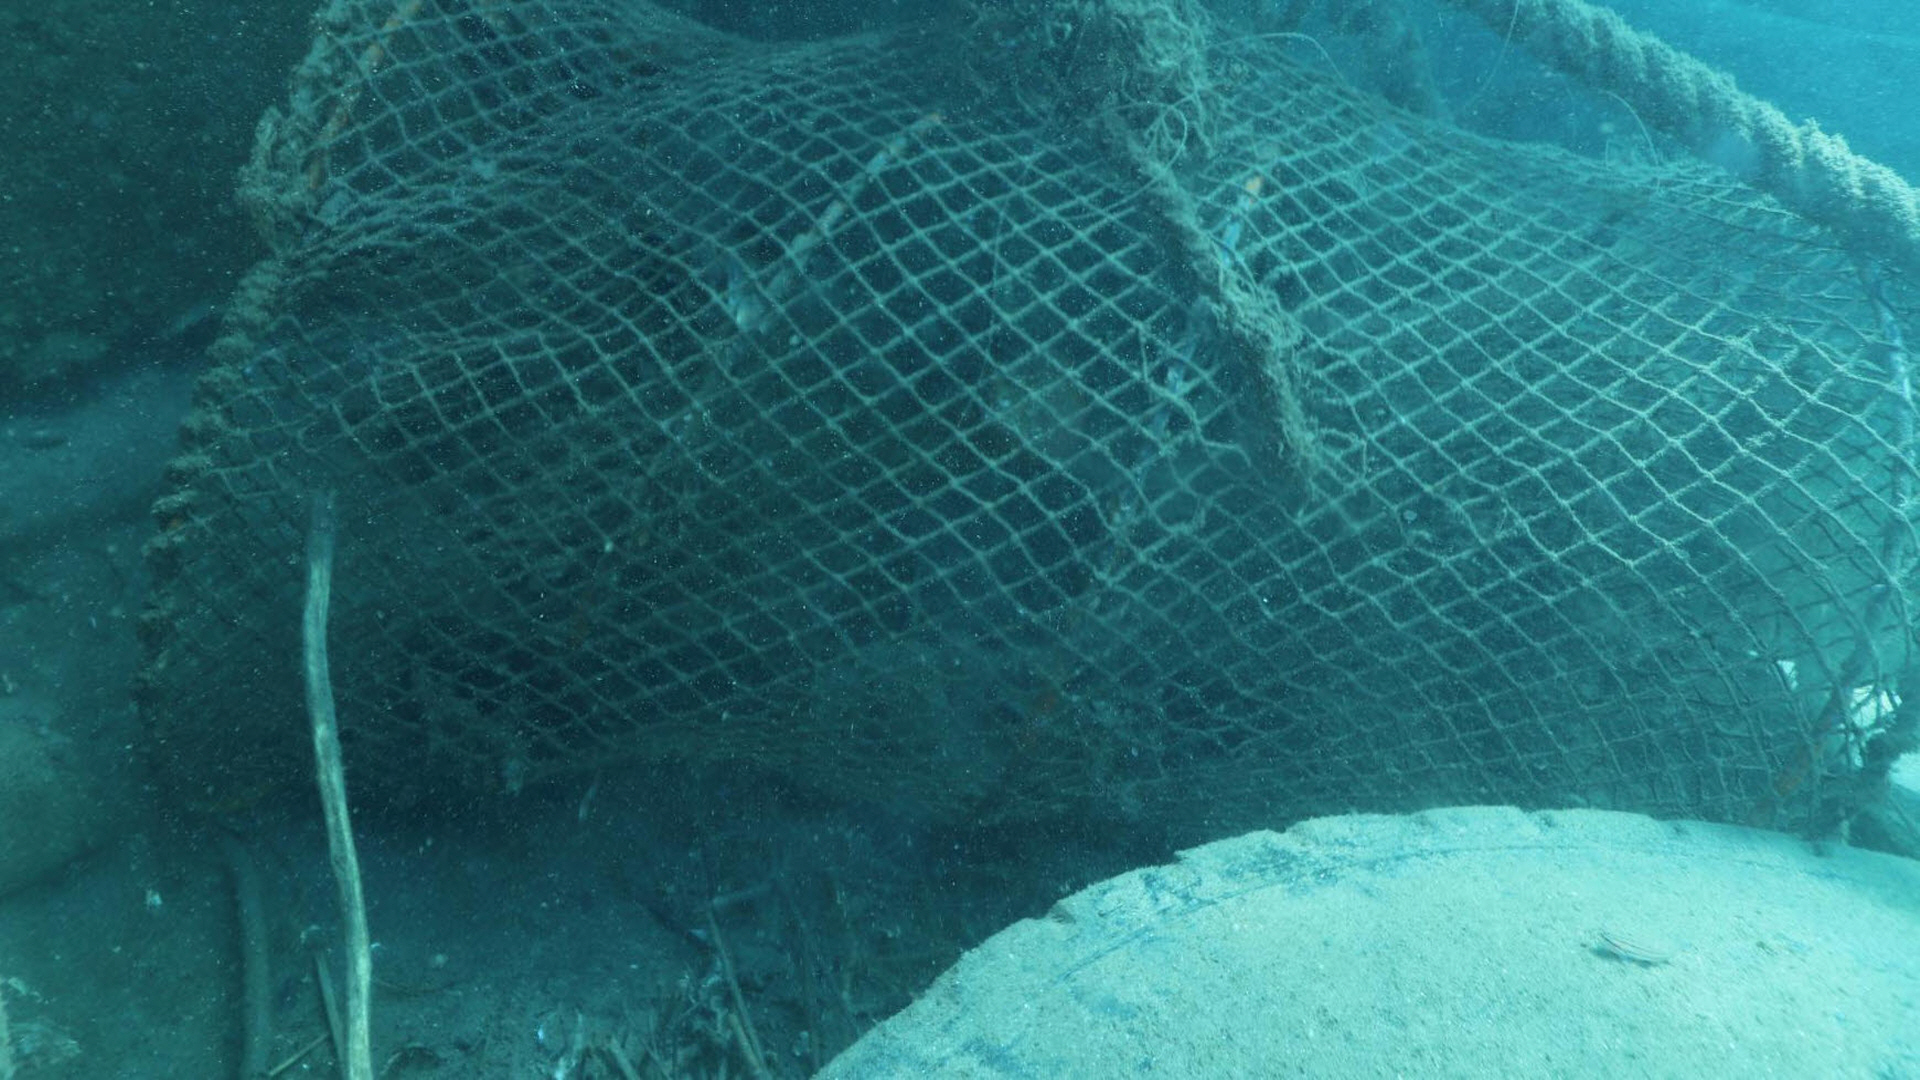rope: (1476, 0, 1920, 251)
spring fish trap: (127, 0, 1920, 847)
